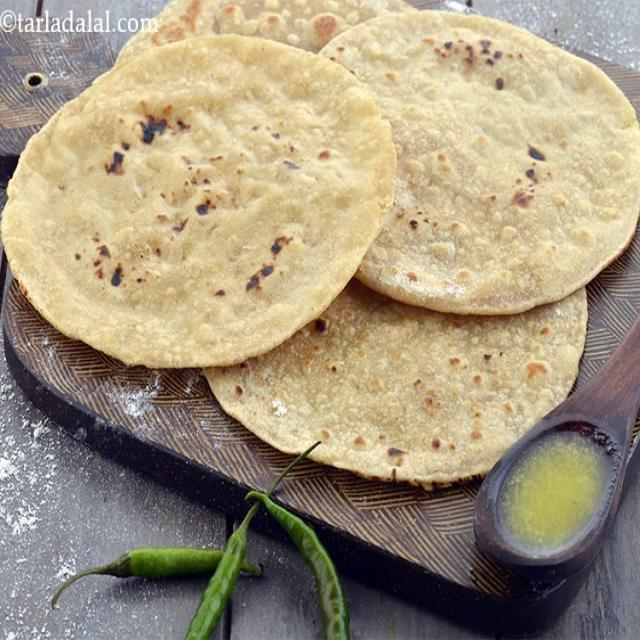CHAPATHI: (0, 0, 639, 484)
